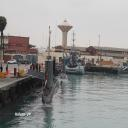submarine: (44, 54, 54, 106), (58, 55, 70, 82)
